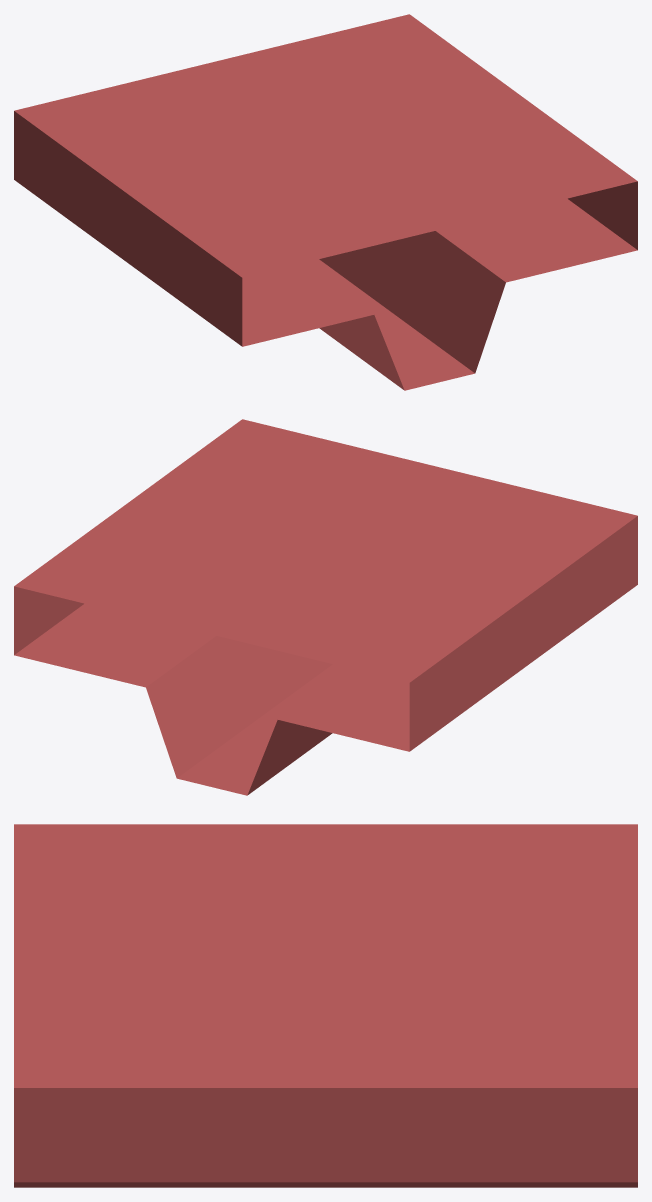
The model's file is Pont.fbx.
The picture shows the model from 3 angles, top to bottom: view 1: azimuth 30°, elevation 25°; view 2: azimuth 150°, elevation 25°; view 3: azimuth 270°, elevation 25°; orthographic projection. The views are drawn at different scales.
Visible parts, largest first — view 1: Pont; view 2: Pont; view 3: Pont.
Part boxes in pixels (box(x1,y1,x2,y2)): Pont: box(14, 14, 637, 390); Pont: box(14, 419, 637, 795); Pont: box(14, 824, 637, 1187).
Size of what is drawn, in the model's own units: 6 by 2.21 by 6.
